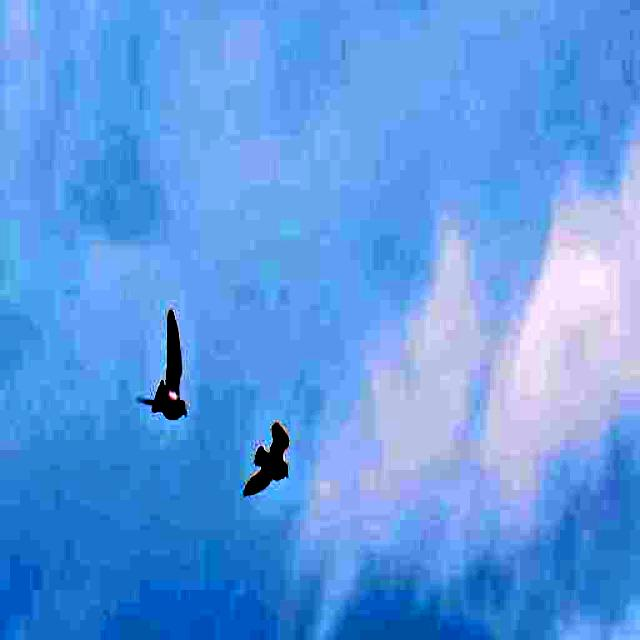airplane: (236, 402, 295, 518), (145, 298, 191, 436)
